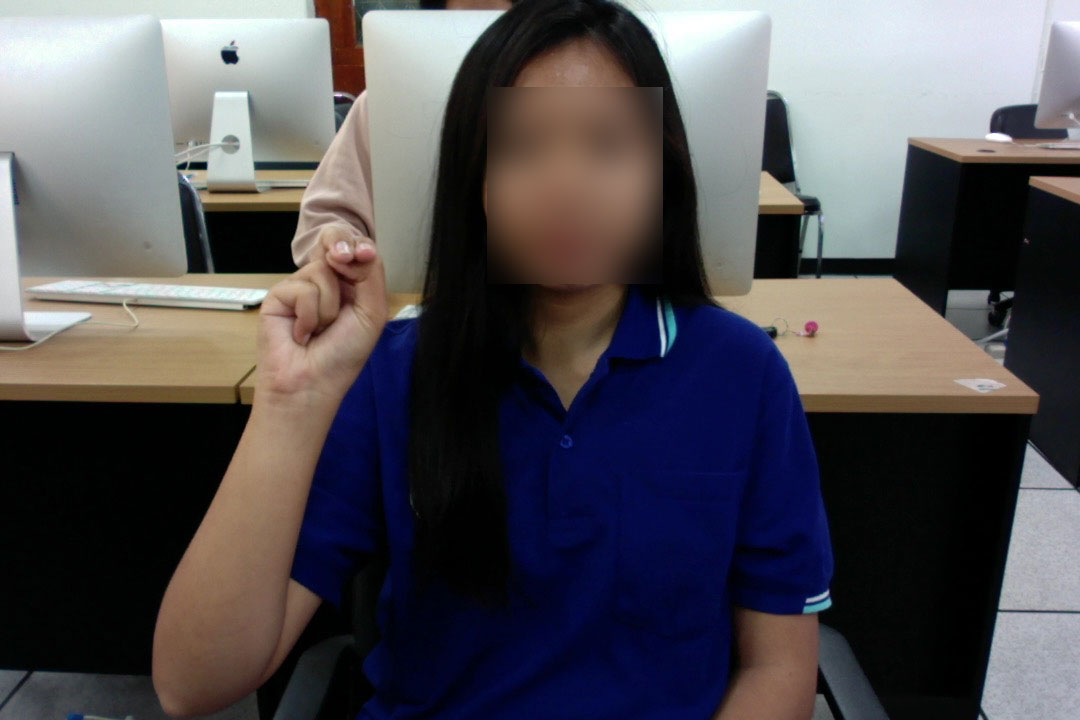nor: (245, 224, 396, 436)
